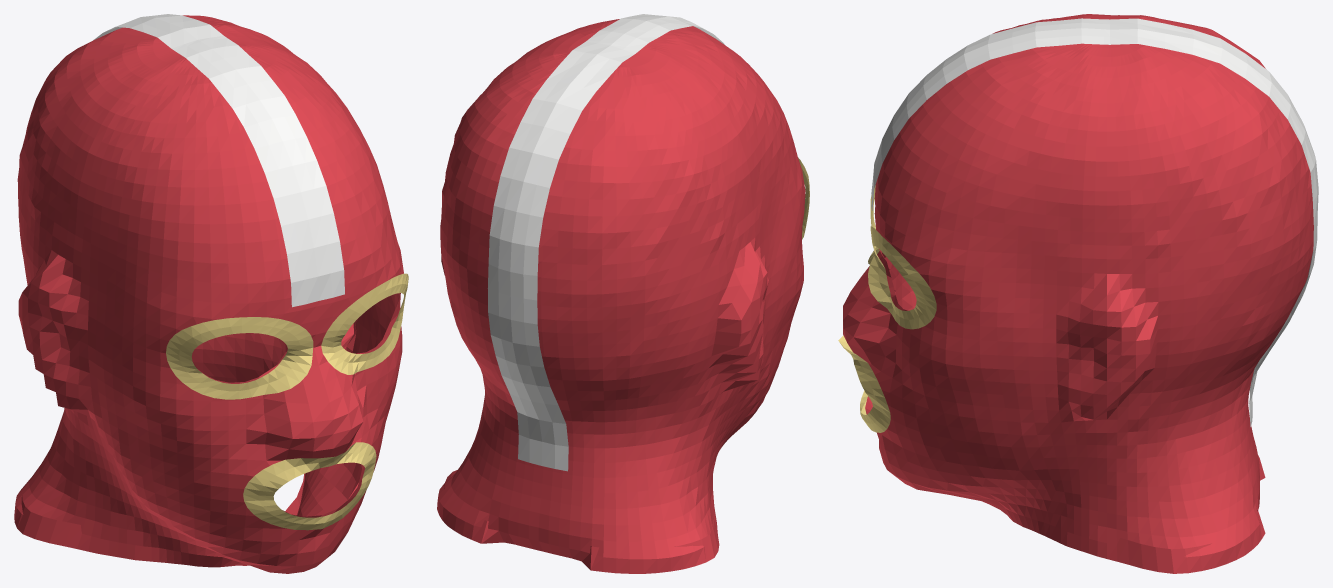
Rendered from ewb_luchador.glb.
3 renders of one model, left to right at view 1: azimuth 30°, elevation 25°; view 2: azimuth 150°, elevation 25°; view 3: azimuth 270°, elevation 25°, orthographic. The views are drawn at different scales.
Visible parts, largest first — view 1: ewb_luchador; view 2: ewb_luchador; view 3: ewb_luchador.
Part boxes in pixels (left/top/right/bottom): ewb_luchador: left=14, top=14, right=408, bottom=573; ewb_luchador: left=437, top=14, right=809, bottom=573; ewb_luchador: left=838, top=14, right=1318, bottom=573.
Size of the model in its own units: 0.1872 by 0.2648 by 0.2416.
